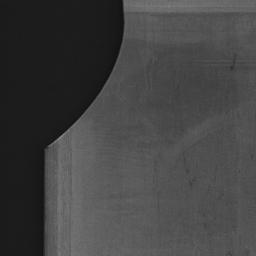Crescent gap: (45, 0, 124, 149)
